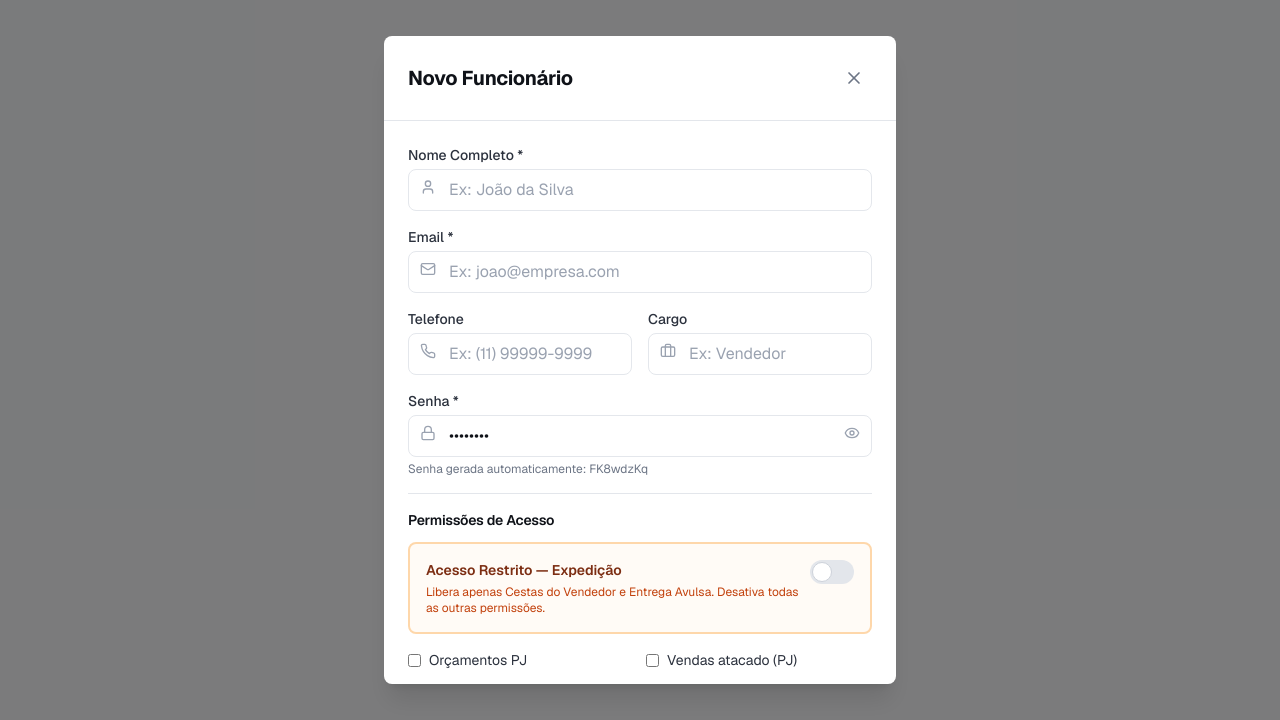
it: FuncionarioModal — payload via Edge Function › 23. senha é limpa após sucesso/fechamento
Step 1. Type "João da Silva" into the field with placeholder "Ex: João da Silva" → (640, 190), box x1=408 y1=169 x2=872 y2=211
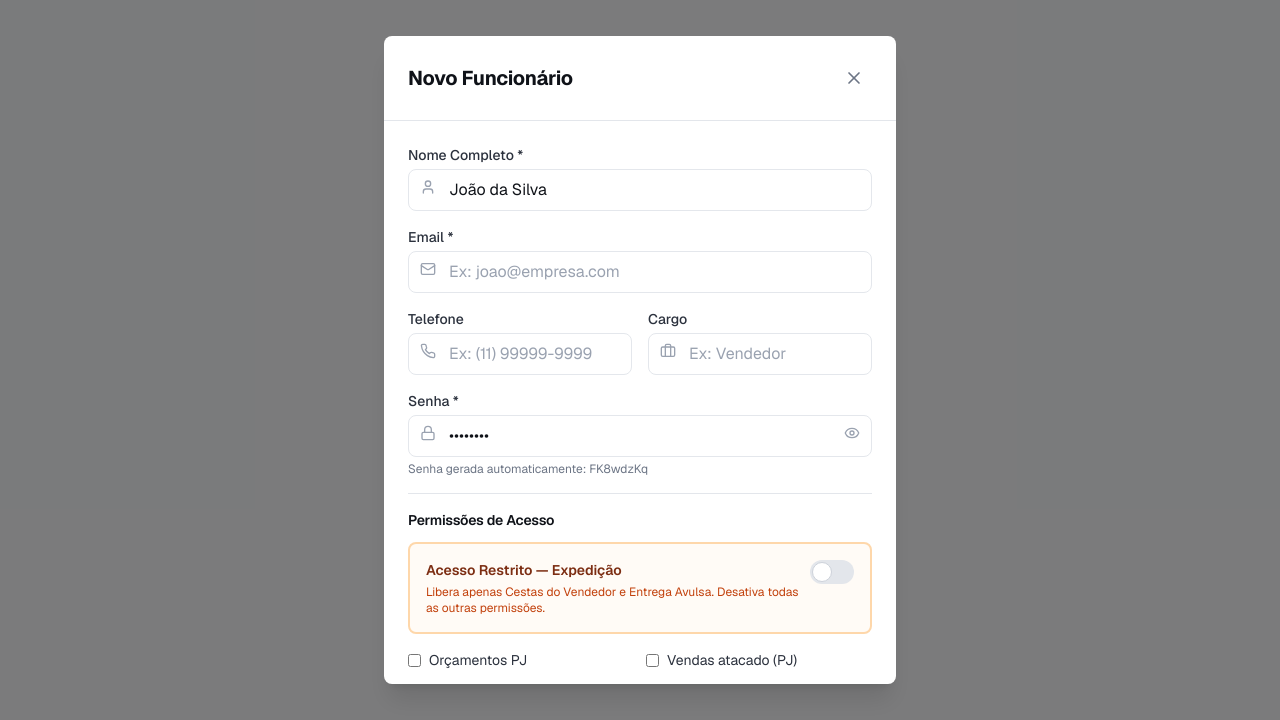
Step 2. Type "joao@empresa.com" into the field with placeholder "Ex: joao@empresa.com" → (640, 272), box x1=408 y1=251 x2=872 y2=293
(page scrolled)
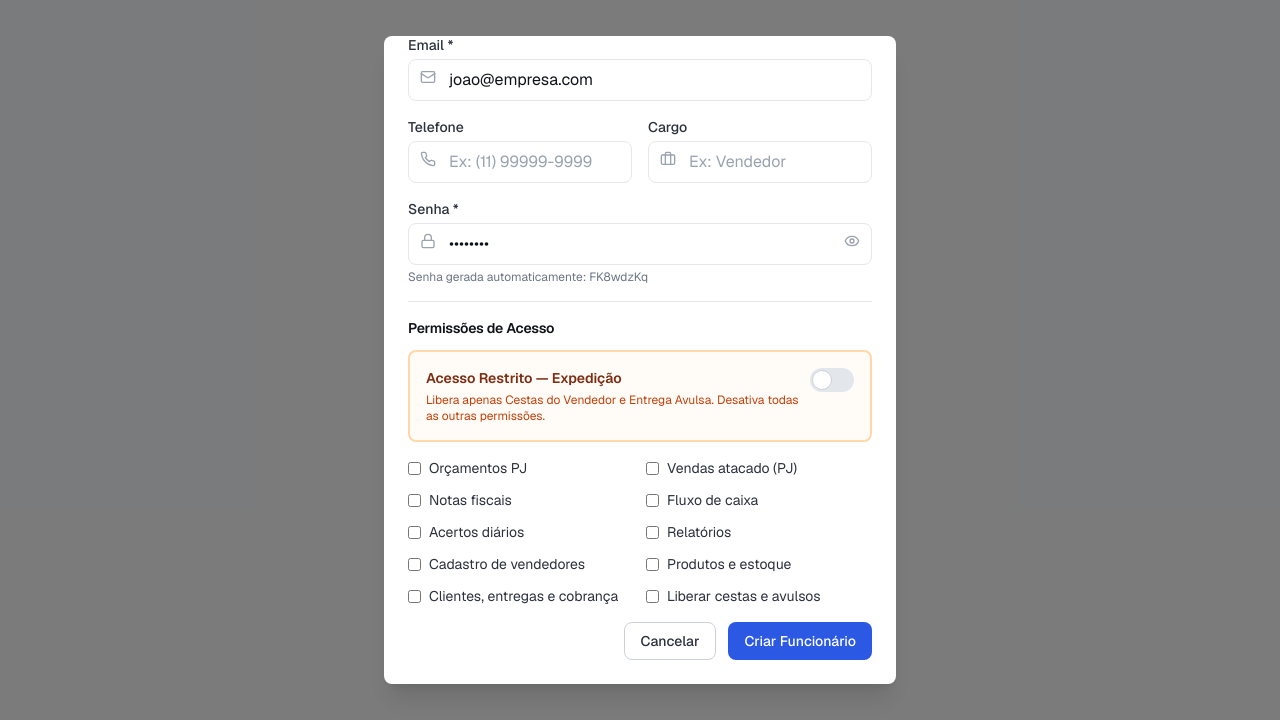
Step 3. Click the button "Criar Funcionário" → (800, 641), box x1=728 y1=622 x2=872 y2=660
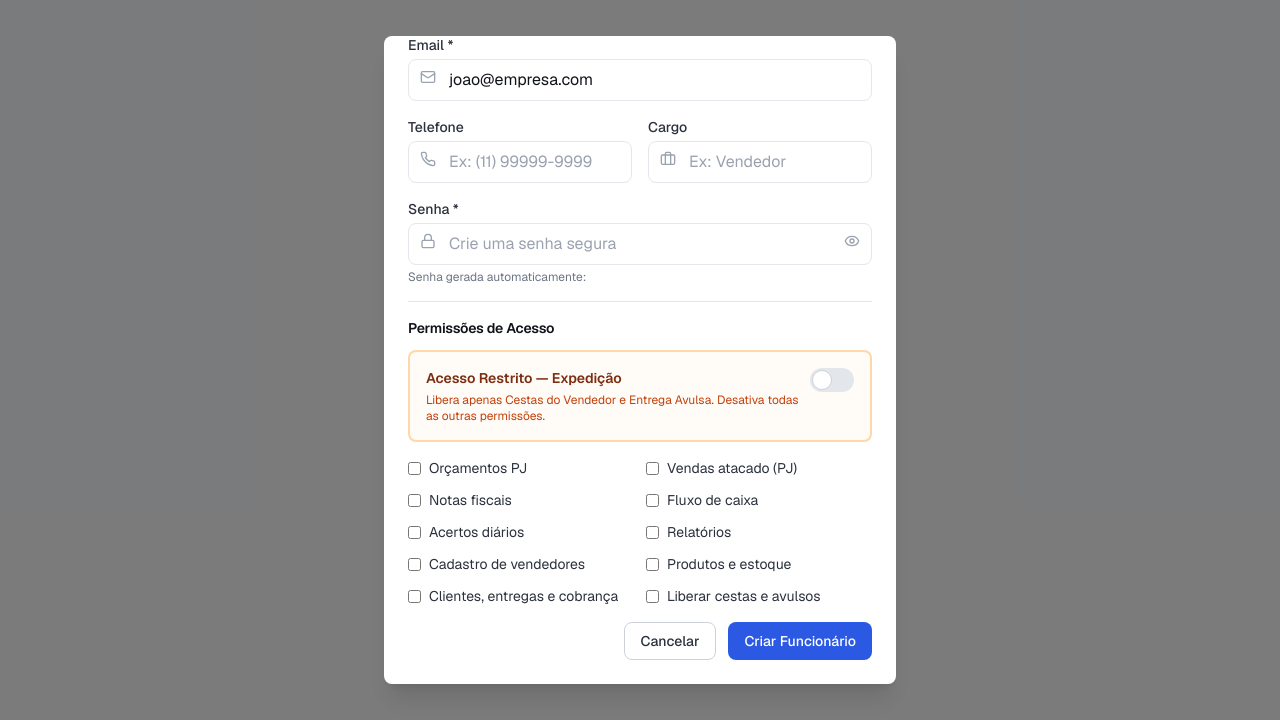
Check: the password field with placeholder "Crie uma senha segura" is empty, box x1=408 y1=223 x2=872 y2=265
